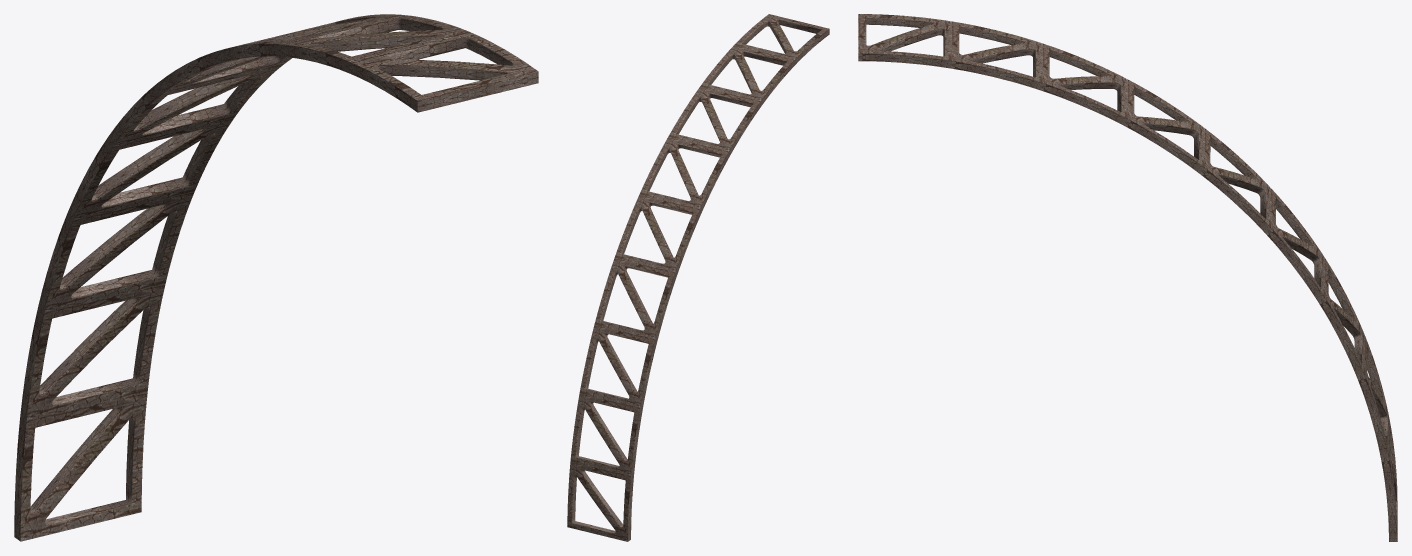
Rendered from pylon_big_90.FBX.
3 views of the same model, side by side, from view 1: azimuth 30°, elevation 25°; view 2: azimuth 150°, elevation 25°; view 3: azimuth 270°, elevation 25° (orthographic). The views are drawn at different scales.
Parts seen in each view (by area): view 1: pylon_big_90; view 2: pylon_big_90; view 3: pylon_big_90.
Boxes of the visible parts, bbox=[...] form: pylon_big_90: bbox=[14, 14, 538, 541]; pylon_big_90: bbox=[567, 14, 829, 541]; pylon_big_90: bbox=[858, 14, 1397, 541].
Bounding box in the file's own units: 4 × 23.1 × 23.1.
